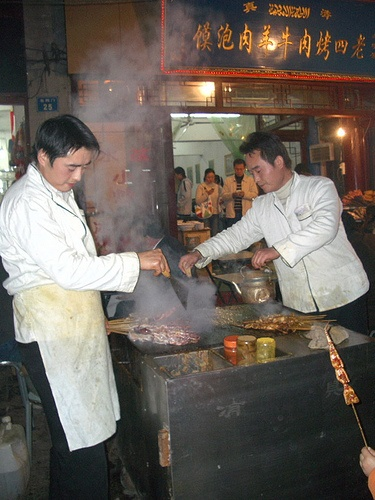head: (31, 114, 94, 194), (240, 131, 293, 193), (231, 156, 249, 182), (200, 167, 218, 188), (170, 165, 189, 184)
person: (1, 111, 186, 500), (178, 135, 368, 309), (219, 157, 257, 225), (194, 167, 223, 236), (173, 166, 191, 215)
